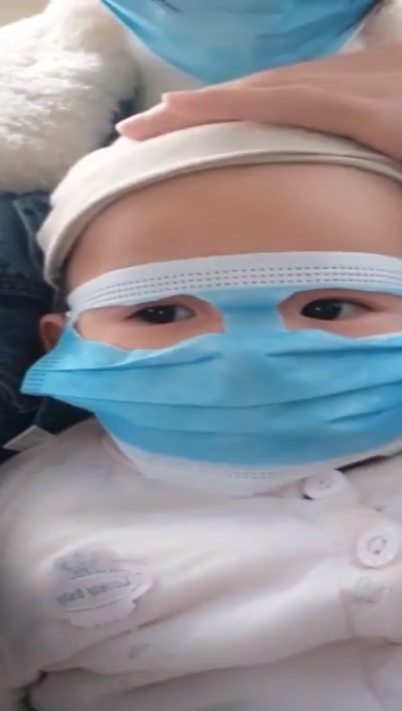mask_weared_incorrect: (25, 134, 402, 475)
